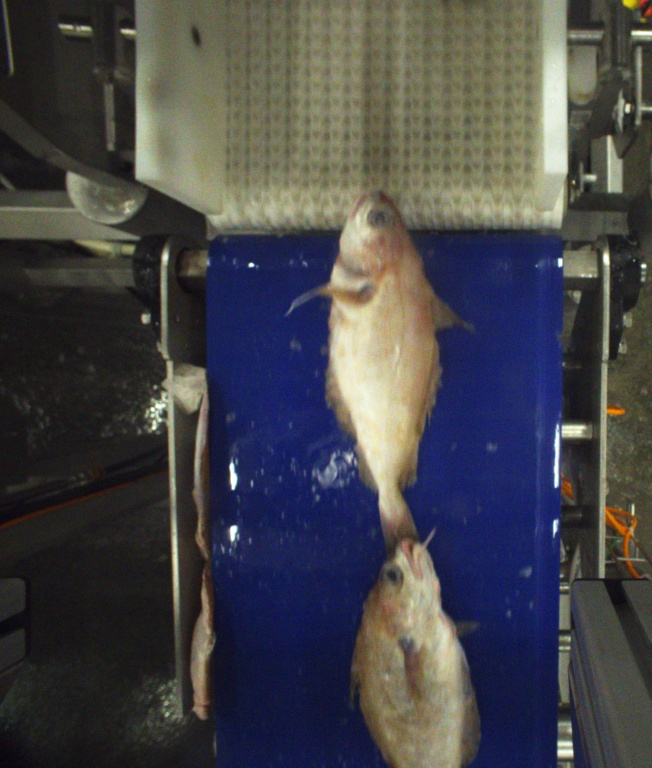BIB: (343, 539, 479, 768)
